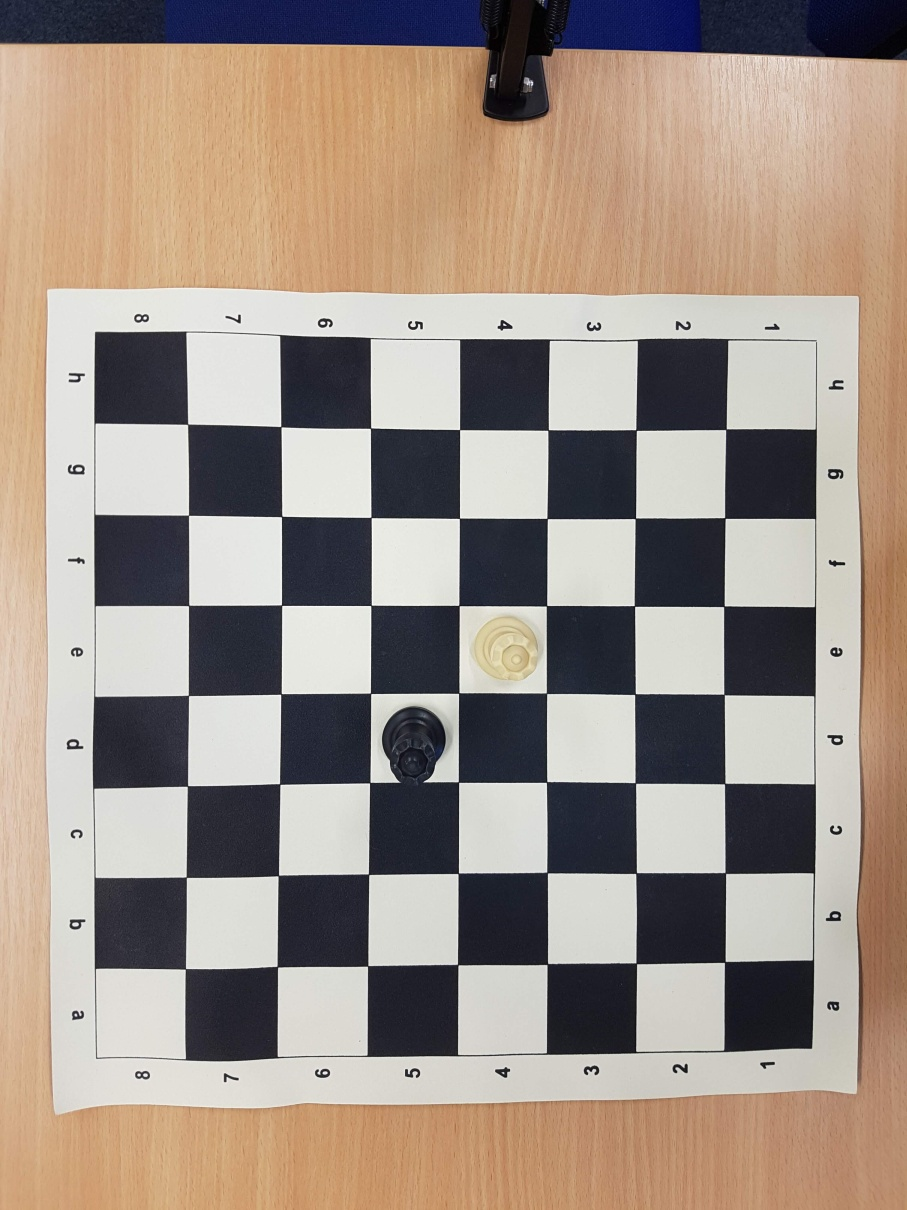chess_queen: (384, 708, 444, 785), (475, 618, 539, 682)
